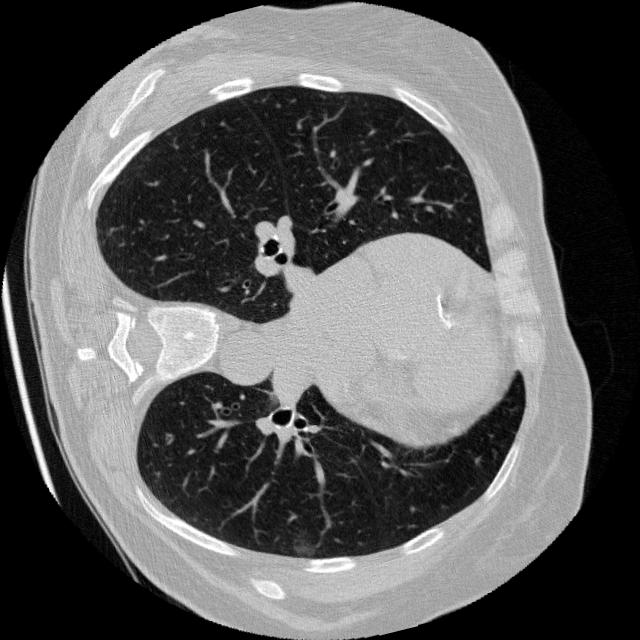nodule: (274, 514, 332, 572)
